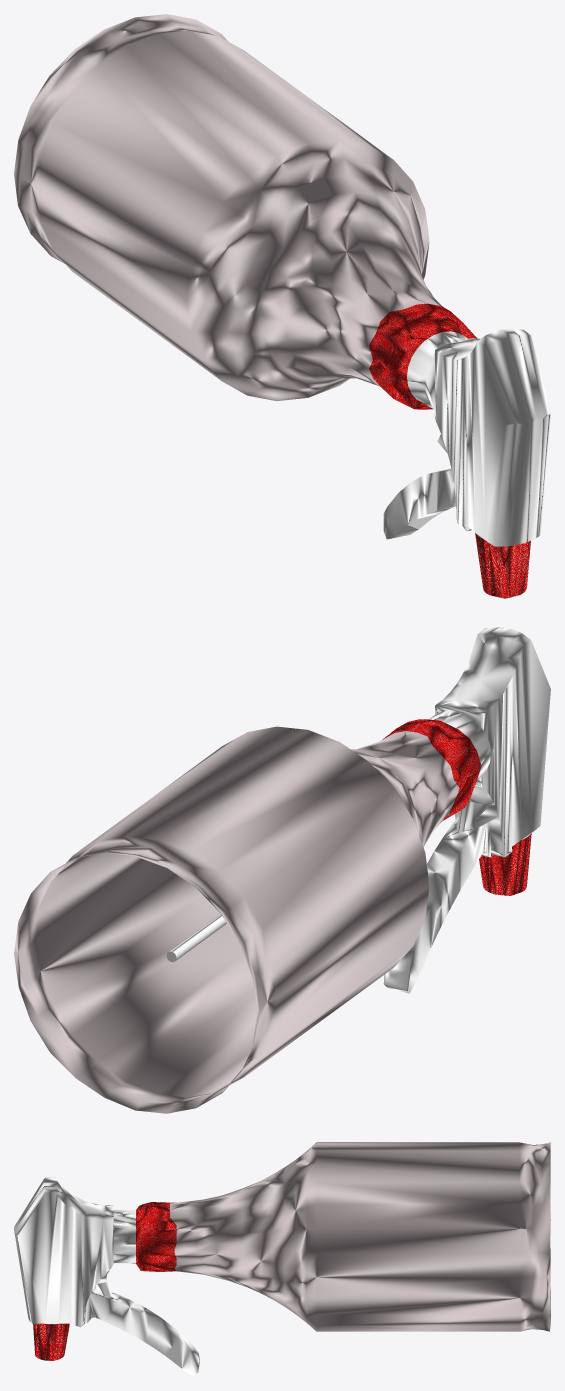
The model's file is model_align.obj.
3 views of the same model, one above another, from view 1: azimuth 30°, elevation 25°; view 2: azimuth 150°, elevation 25°; view 3: azimuth 270°, elevation 25° (orthographic). The views are drawn at different scales.
Bounding box in the file's own units: 0.0838 × 0.1079 × 0.2365.
